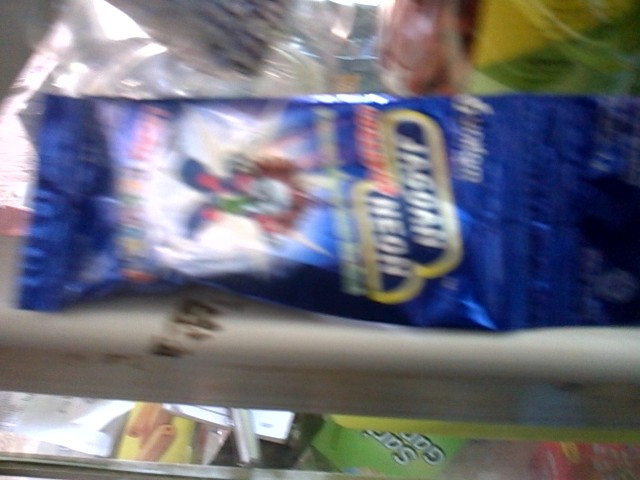jagoan neon: (16, 95, 536, 331)
